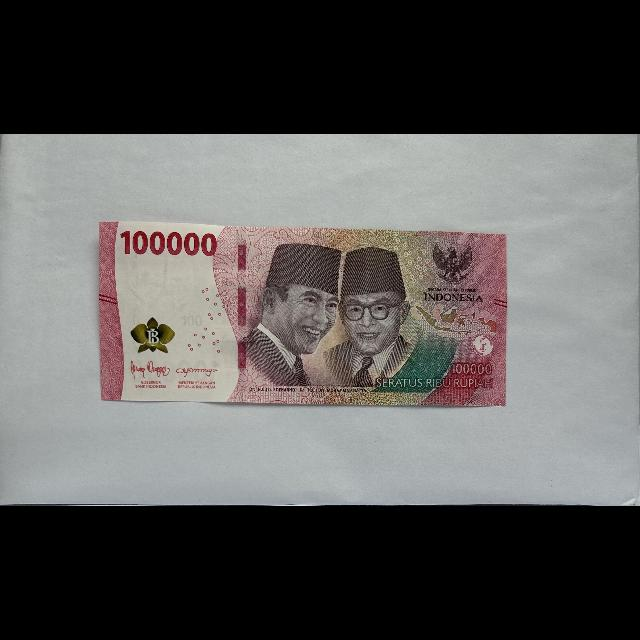Asli-100k: (99, 221, 508, 410)
Tinta-Asli-100k: (130, 316, 176, 354)
